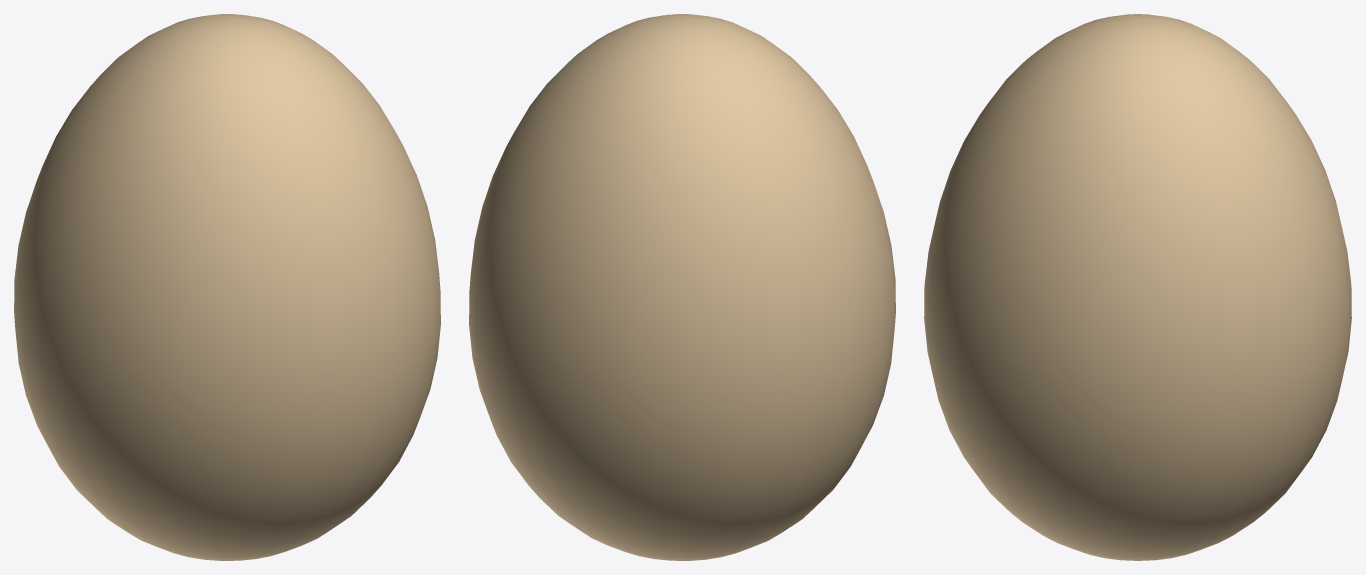
Rendered from ChickenEgg.fbx.
3 renders of one model, left to right at view 1: azimuth 30°, elevation 25°; view 2: azimuth 150°, elevation 25°; view 3: azimuth 270°, elevation 25°, orthographic.
Parts seen in each view (by area): view 1: ChickenEgg; view 2: ChickenEgg; view 3: ChickenEgg.
Part boxes in pixels (<box>): ChickenEgg: <box>14,14,440,560</box>; ChickenEgg: <box>469,14,895,560</box>; ChickenEgg: <box>924,14,1351,560</box>.
Size of the model in its own units: 0.045 by 0.06 by 0.045.
